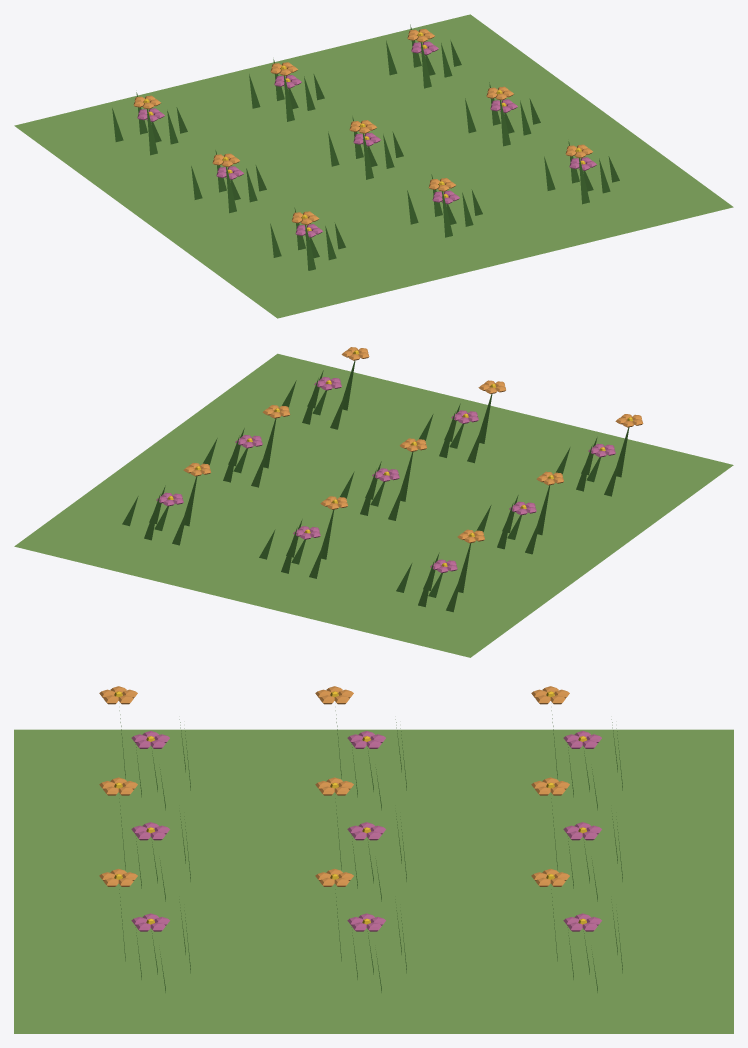
File: MeadowPatch.obj
3 views of the same model, one above another, from view 1: azimuth 30°, elevation 25°; view 2: azimuth 150°, elevation 25°; view 3: azimuth 270°, elevation 25° (orthographic). The views are drawn at different scales.
Visible parts, largest first — view 1: MeadowPatch; view 2: MeadowPatch; view 3: MeadowPatch.
Part boxes in pixels (x1,y1,x2,y2): MeadowPatch: (14,14,733,318); MeadowPatch: (14,347,733,657); MeadowPatch: (14,686,733,1033).
Bounding box in the file's own units: 4 × 0.5038 × 4.
